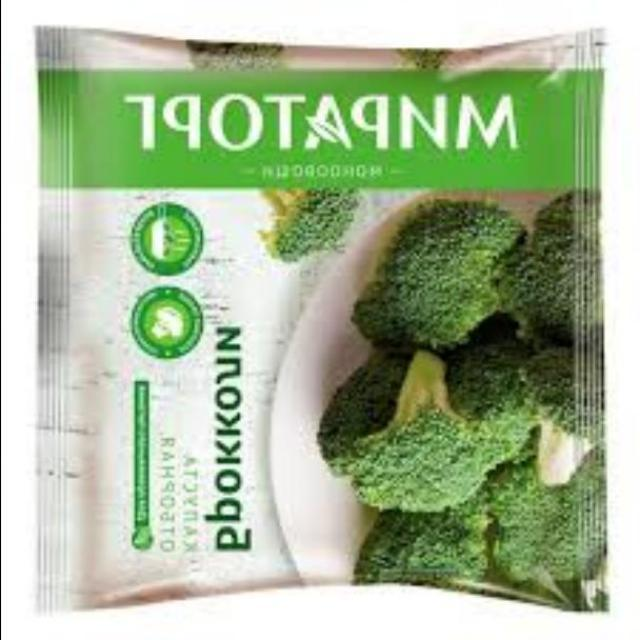Broccoli: (428, 346, 578, 572), (330, 190, 523, 328), (358, 339, 514, 501), (355, 472, 491, 595), (250, 166, 371, 276)
